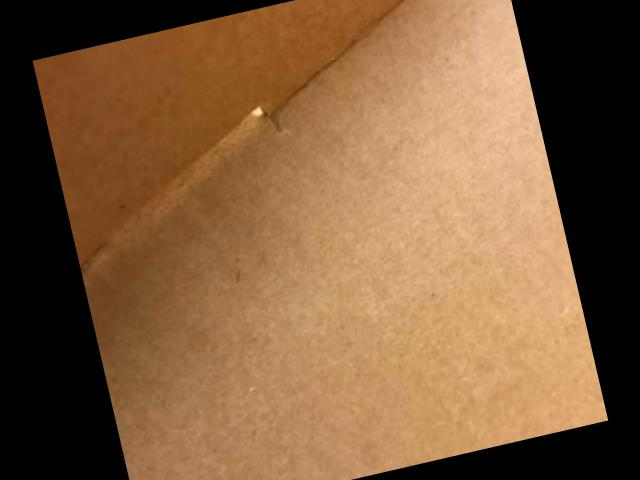cardboard paper: (32, 0, 608, 480)
